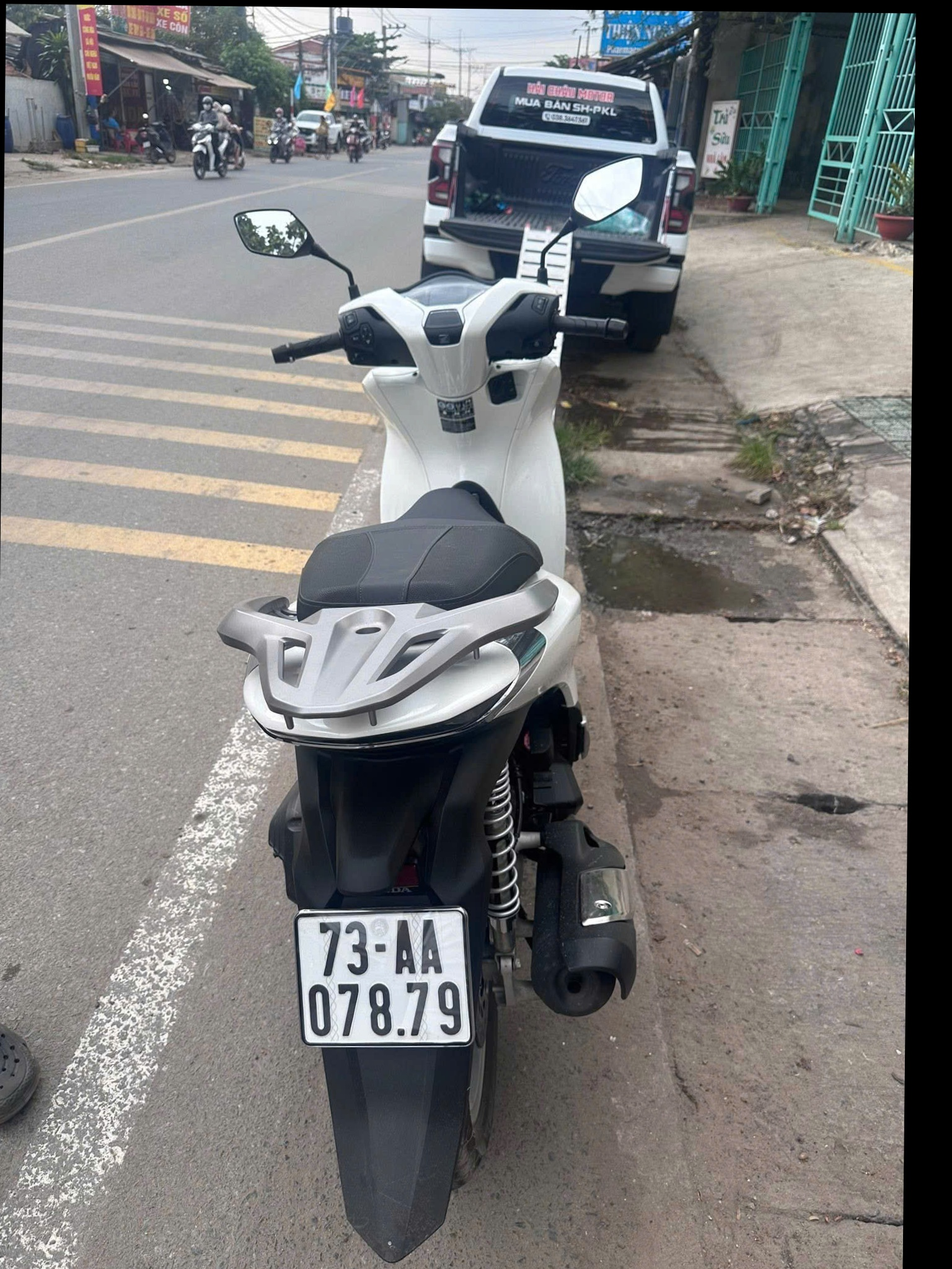Bien-so: (297, 903, 493, 1061)
